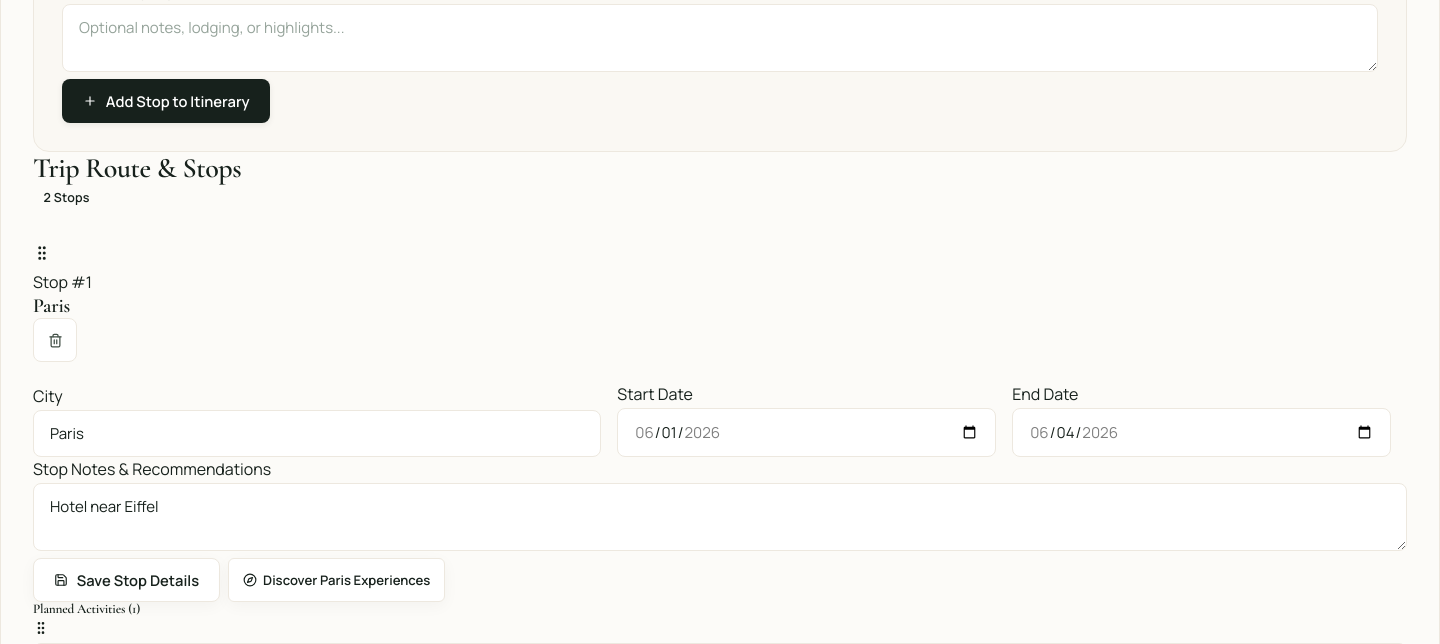
Test case: TripDetailPage Itinerary Builder › removes a stop when delete button is clicked and handles rollback on failure
This screenshot has width=1440, height=644.
(page scrolled)
Expected: the heading "Paris" is shown, [33,294,70,318]
Click the button named "Delete stop": point(55, 340) [33,318,77,362]
(page scrolled)
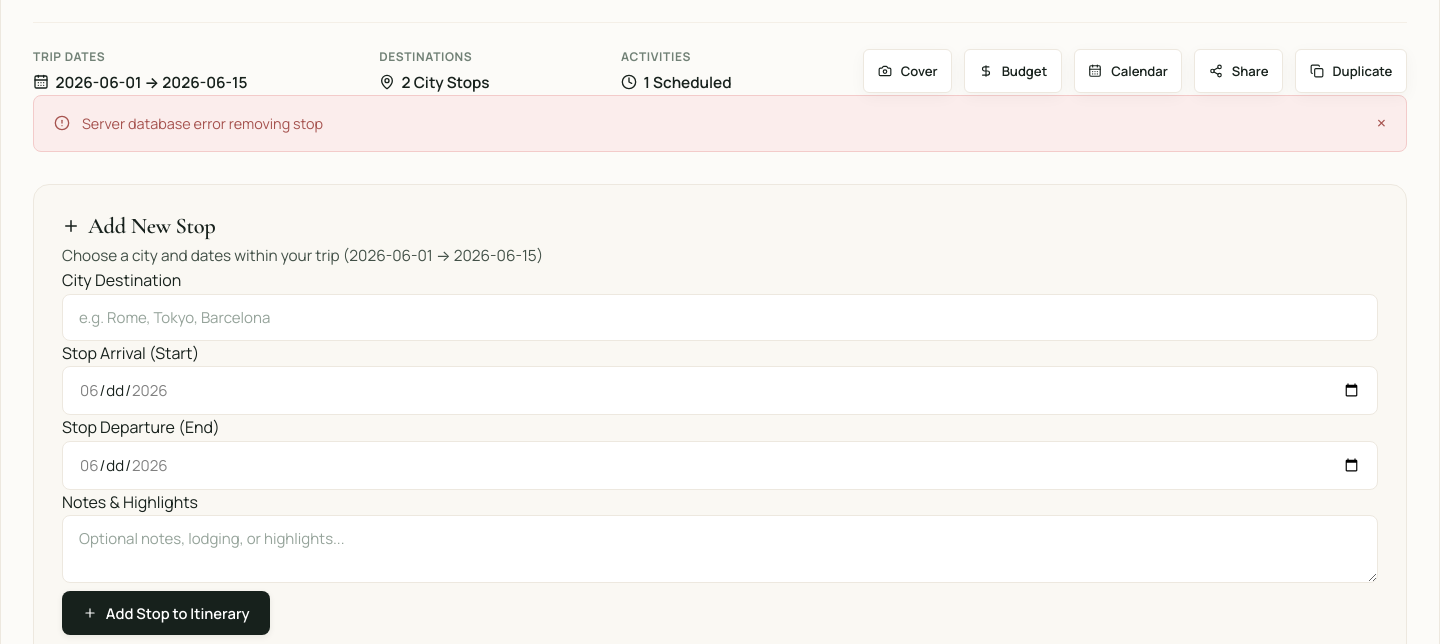
Result: the text "Server database error removing stop" is shown at [82,112,323,135]
